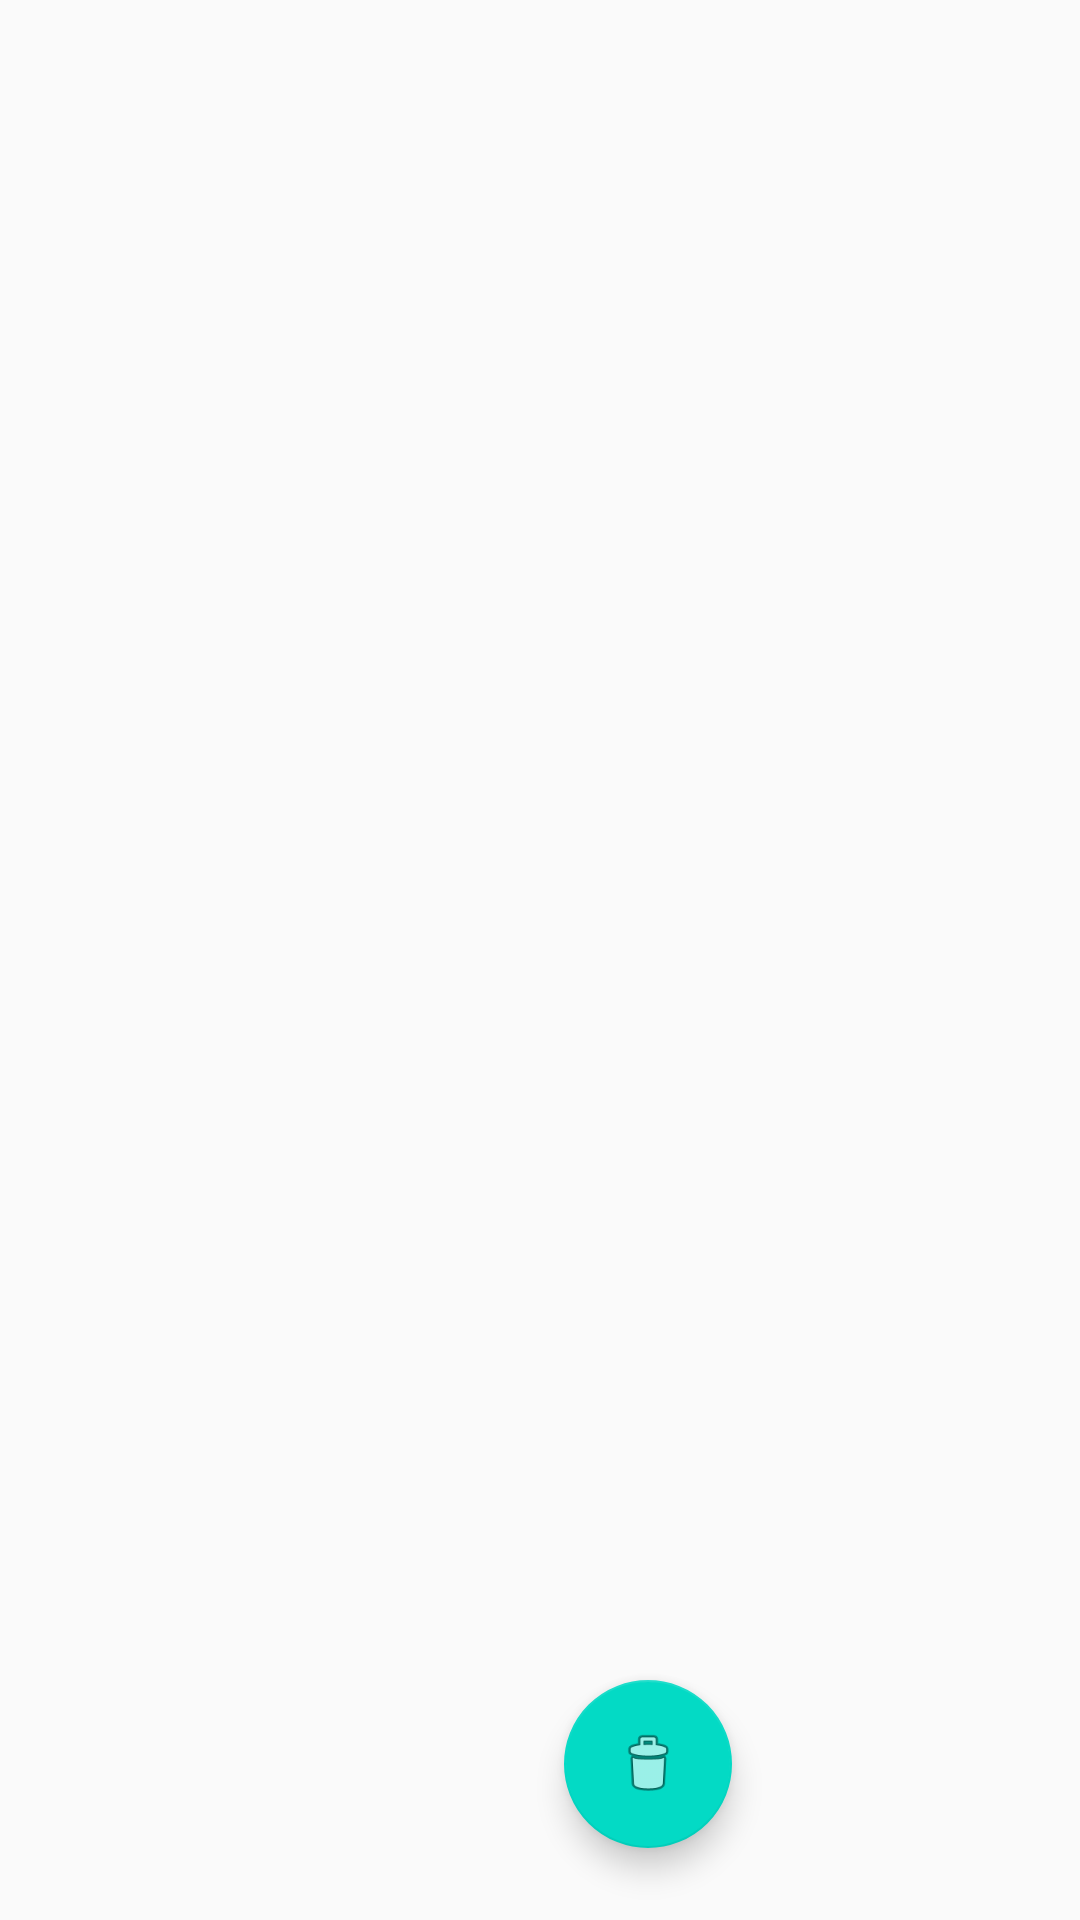

Where icons sit on this 1080 × 1920 app screen, as (x1, y1, x2, y2):
delete: (564, 1680, 732, 1848)
